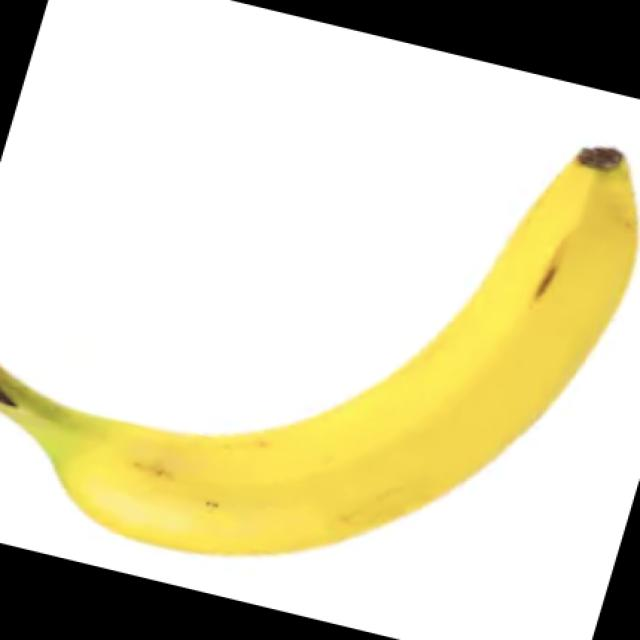god quality banana: (1, 149, 636, 555)
